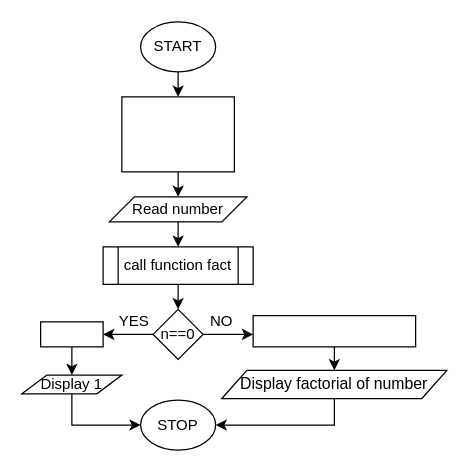
This 469x473 diagram has some shape labels left out. Each missing label, with the box of its shape:
Declare the required variables and fact function: (121, 96, 234, 172)
return 1: (39, 321, 103, 347)
return(n * fact(n - 1));: (252, 314, 416, 347)
